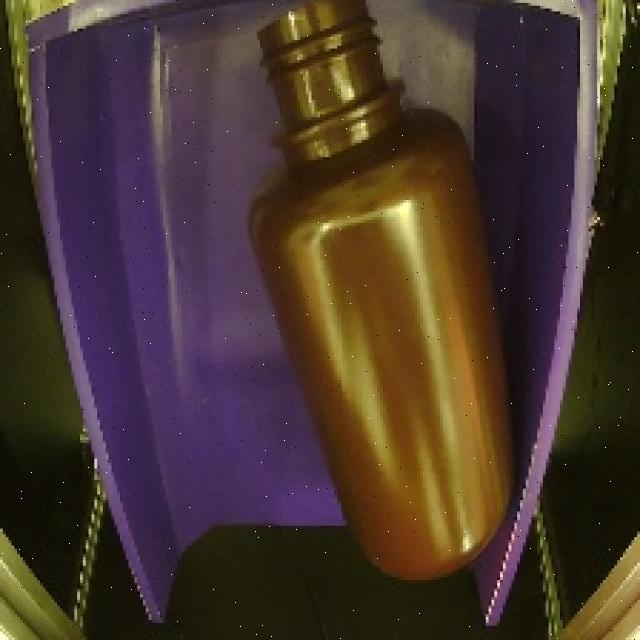plastic: (227, 0, 529, 605)
